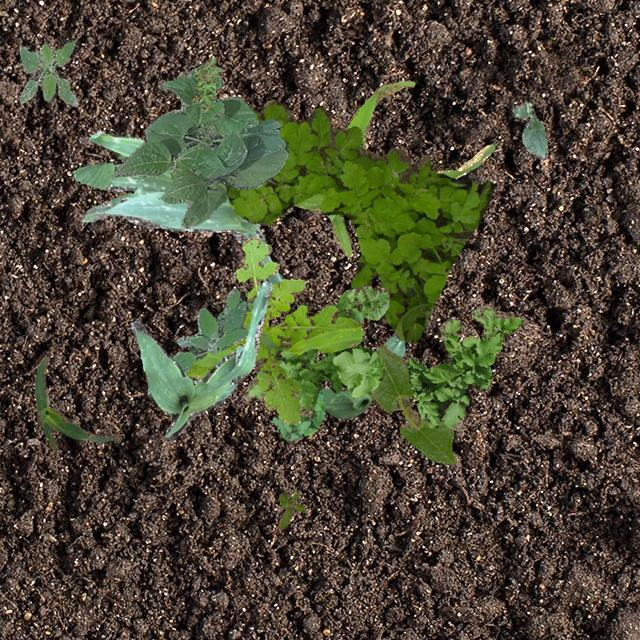crop: (292, 80, 494, 256), (72, 130, 282, 284), (111, 62, 288, 226), (130, 280, 272, 440), (370, 342, 456, 463), (34, 356, 120, 452), (320, 332, 404, 418), (512, 100, 546, 158)
weed: (224, 98, 494, 342), (184, 236, 362, 424), (242, 284, 388, 416), (406, 302, 522, 430), (170, 287, 248, 373), (18, 40, 76, 106), (270, 390, 324, 440), (190, 56, 220, 110), (278, 492, 304, 528)
